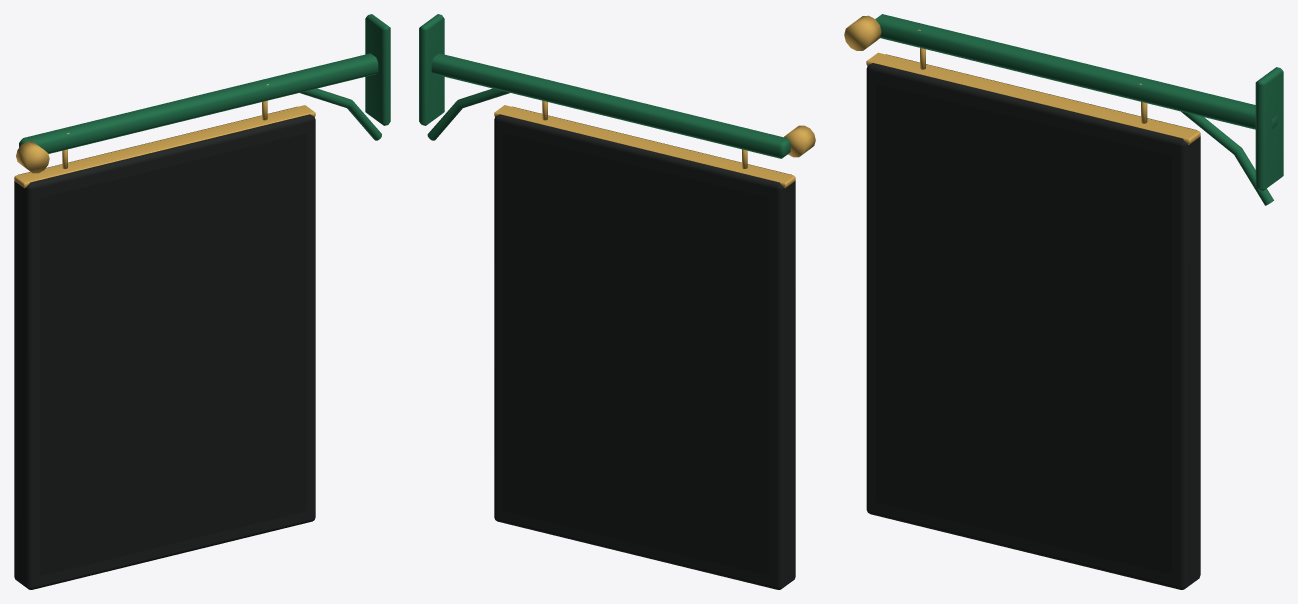
Rendered from blade_sign.glb.
3 views of the same model, side by side, from view 1: azimuth 30°, elevation 25°; view 2: azimuth 150°, elevation 25°; view 3: azimuth 330°, elevation 25° (orthographic). The views are drawn at different scales.
Parts seen in each view (by area): view 1: SignFaceB, Panel, Arm, PanelTrim, WallPlate, Brace, ArmEnd; view 2: SignFaceA, Panel, Arm, PanelTrim, WallPlate, Brace, ArmEnd; view 3: SignFaceB, Panel, Arm, PanelTrim, WallPlate, Brace, ArmEnd.
Part boxes in pixels (left/top/right/bottom): SignFaceB: left=40, top=133, right=307, bottom=576; Panel: left=14, top=106, right=315, bottom=589; Arm: left=19, top=53, right=378, bottom=153; PanelTrim: left=14, top=105, right=315, bottom=187; WallPlate: left=365, top=14, right=390, bottom=125; Brace: left=300, top=88, right=381, bottom=140; ArmEnd: left=16, top=141, right=49, bottom=173; SignFaceA: left=502, top=133, right=769, bottom=576; Panel: left=494, top=106, right=795, bottom=589; Arm: left=431, top=53, right=790, bottom=158; PanelTrim: left=494, top=105, right=795, bottom=187; WallPlate: left=419, top=14, right=444, bottom=125; Brace: left=427, top=88, right=509, bottom=140; ArmEnd: left=784, top=125, right=815, bottom=157; SignFaceB: left=876, top=83, right=1171, bottom=574; Panel: left=866, top=54, right=1200, bottom=589; Arm: left=875, top=14, right=1277, bottom=129; PanelTrim: left=866, top=52, right=1200, bottom=144; WallPlate: left=1255, top=67, right=1283, bottom=190; Brace: left=1181, top=111, right=1273, bottom=205; ArmEnd: left=844, top=15, right=881, bottom=50.
Size of the model in its own units: 0.7836 by 0.9644 by 0.095.
